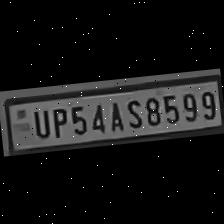4: (86, 98, 107, 134)
5: (65, 100, 88, 136), (159, 90, 181, 124)
8: (142, 92, 162, 128)
9: (196, 85, 218, 119), (179, 88, 200, 122)
A: (104, 96, 124, 132)
P: (46, 103, 68, 138)
S: (122, 94, 144, 130)
U: (28, 104, 51, 138)
